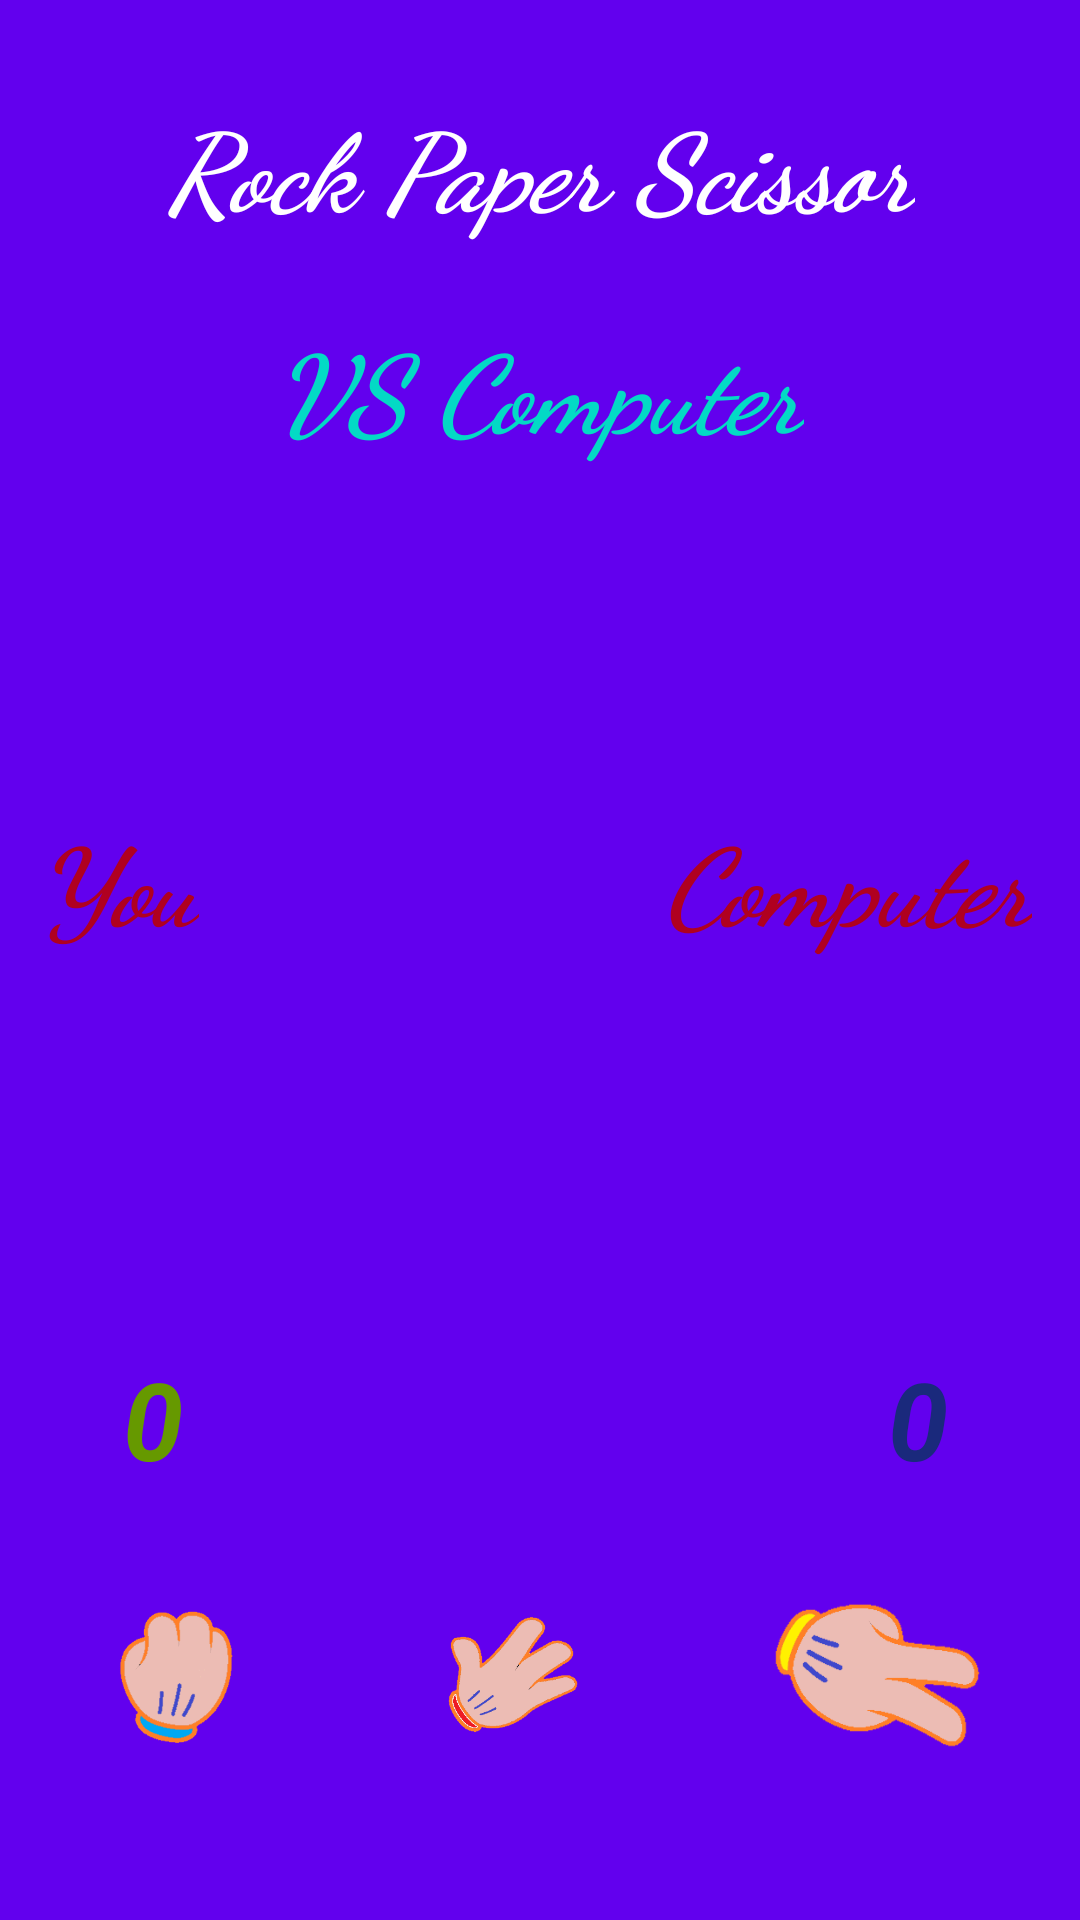

Named icons in this screenshot (1080x1920) and their bounding boxes, rect(x1, y1, x2, y2):
paper: rect(449, 1617, 578, 1732)
rock: rect(120, 1611, 233, 1743)
scissor: rect(775, 1604, 980, 1747)
